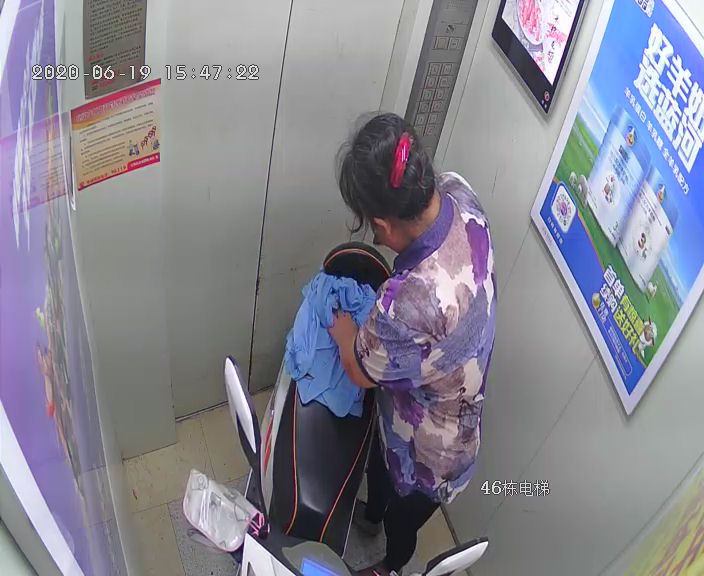Electric-bicycle: (192, 245, 493, 576)
